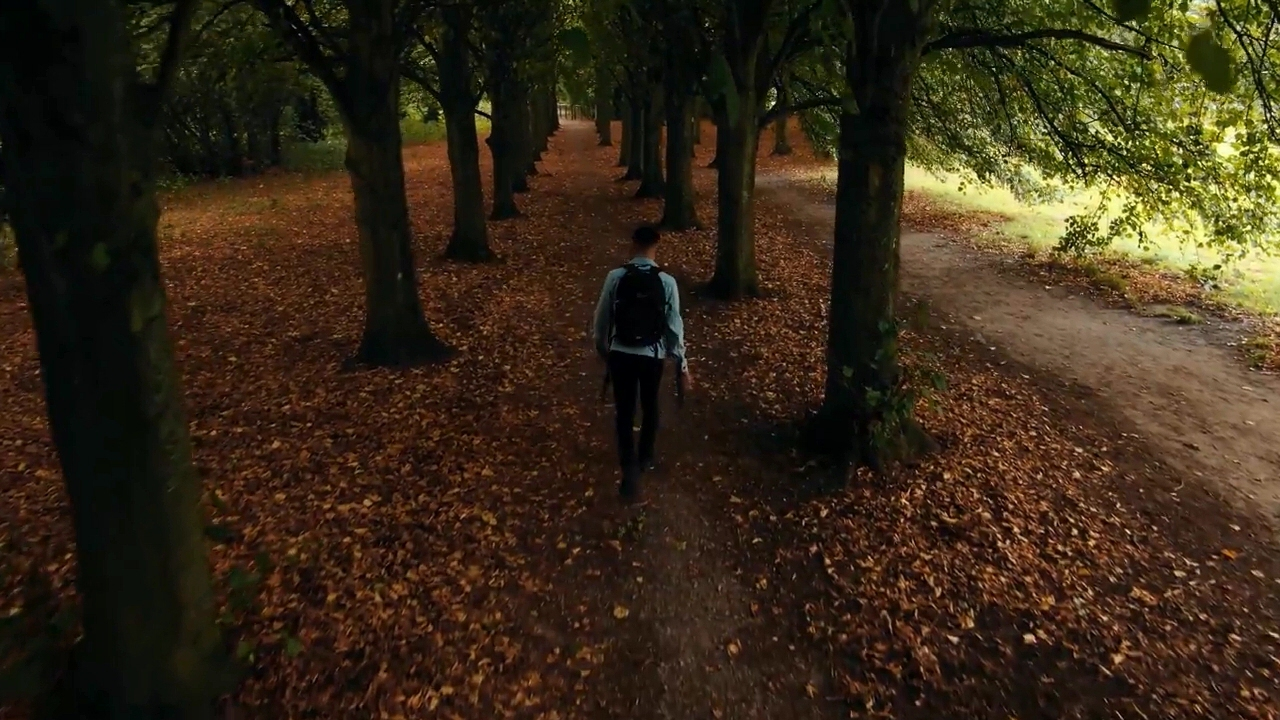insan: (596, 220, 698, 500)
